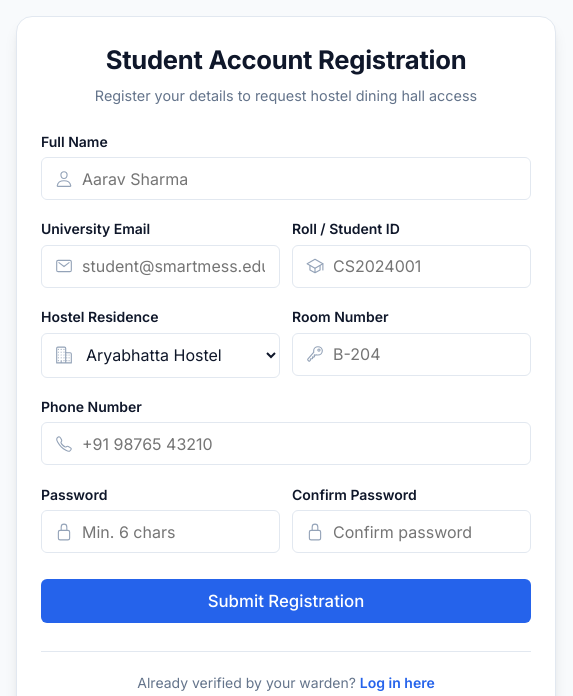
Test: Register Page Tests › TC-FE-REG-02: shows error alert when passwords do not match
Type "Aarav" into the field with test id "register-name".
click(286, 179); type("Aarav")  # box [41,157,531,200]
Type "aarav@edu" into the field with test id "register-email".
click(160, 266); type("aarav@edu")  # box [41,245,280,288]
Type "CS01" into the field with test id "register-roll".
click(412, 266); type("CS01")  # box [292,245,531,288]
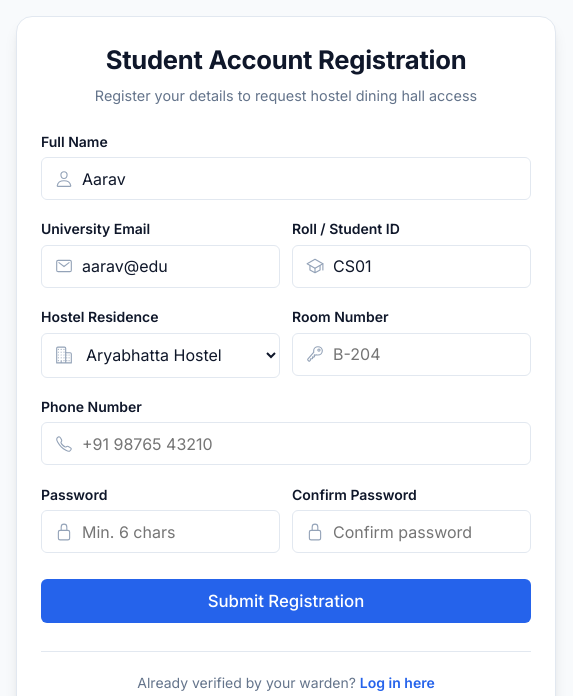
Type "101" into the field with test id "register-room".
click(412, 354); type("101")  # box [292,333,531,376]
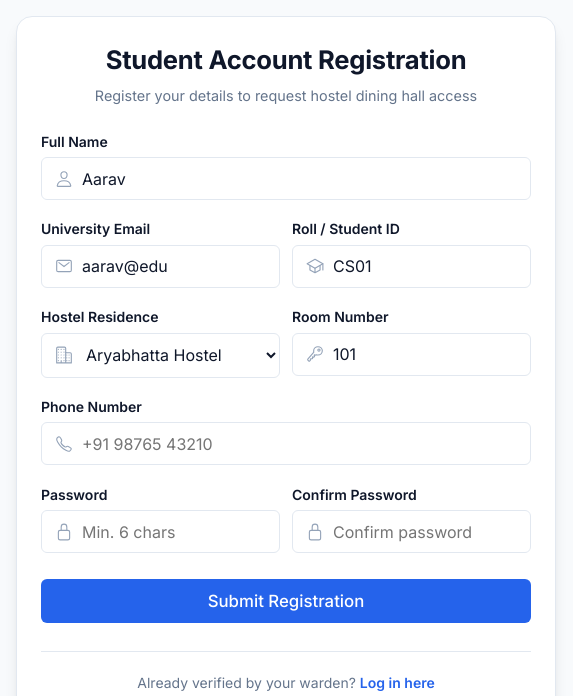
Type "9876543210" into the field with test id "register-phone".
click(286, 444); type("9876543210")  # box [41,422,531,465]
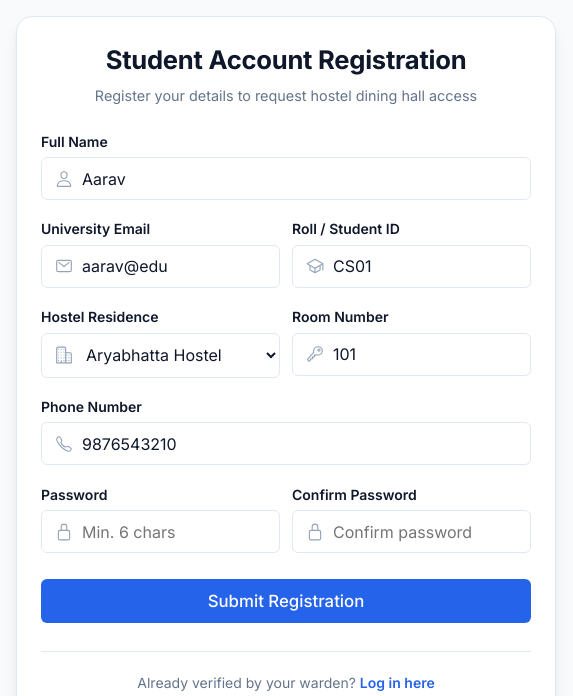
Type "pass123" into the password field with test id "register-password".
click(160, 532); type("pass123")  # box [41,510,280,553]
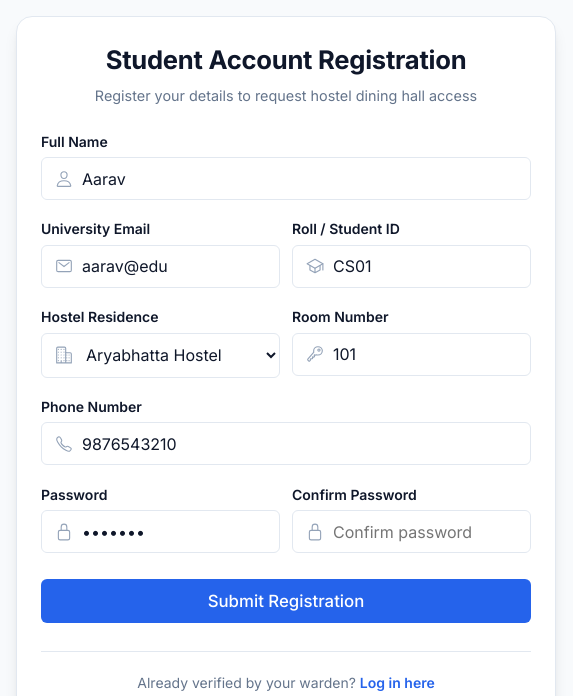
Type "pass999" into the password field with test id "register-confirm-password".
click(412, 532); type("pass999")  # box [292,510,531,553]
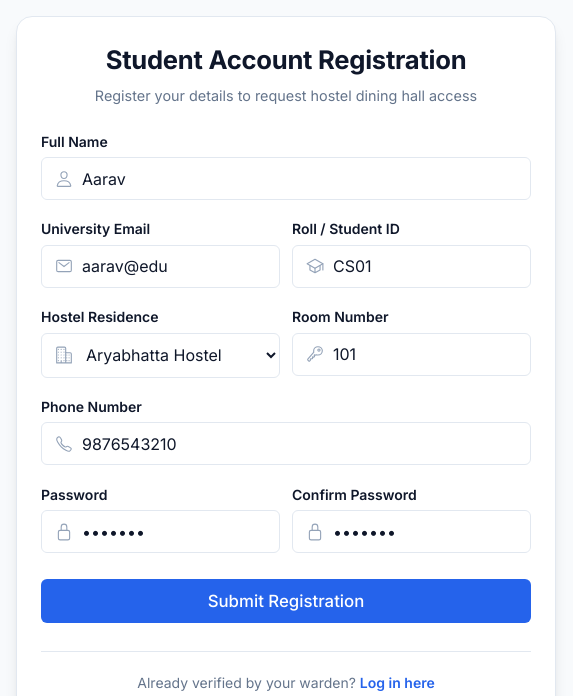
Click the button with test id "register-submit-button".
click(286, 601)  # box [41,579,531,623]
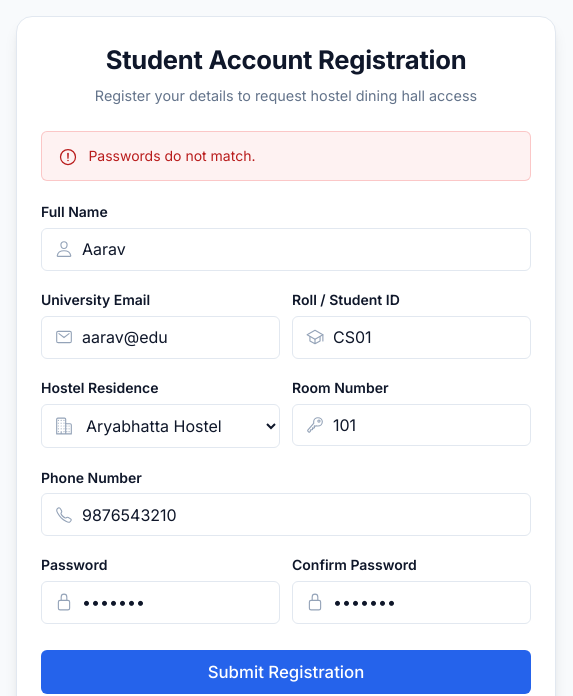
Expected: the message "Passwords do not match." is shown, [41,131,531,181]
Expected: the text "Passwords do not match." is shown, [88,145,256,166]
